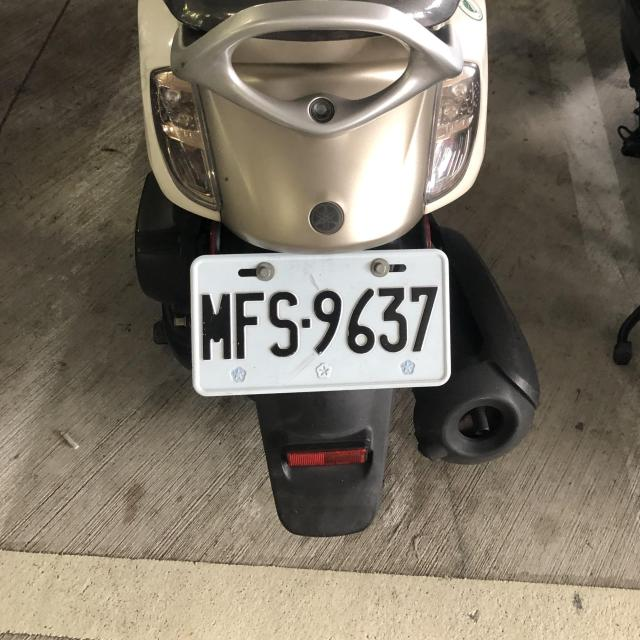W: (186, 244, 452, 399)
